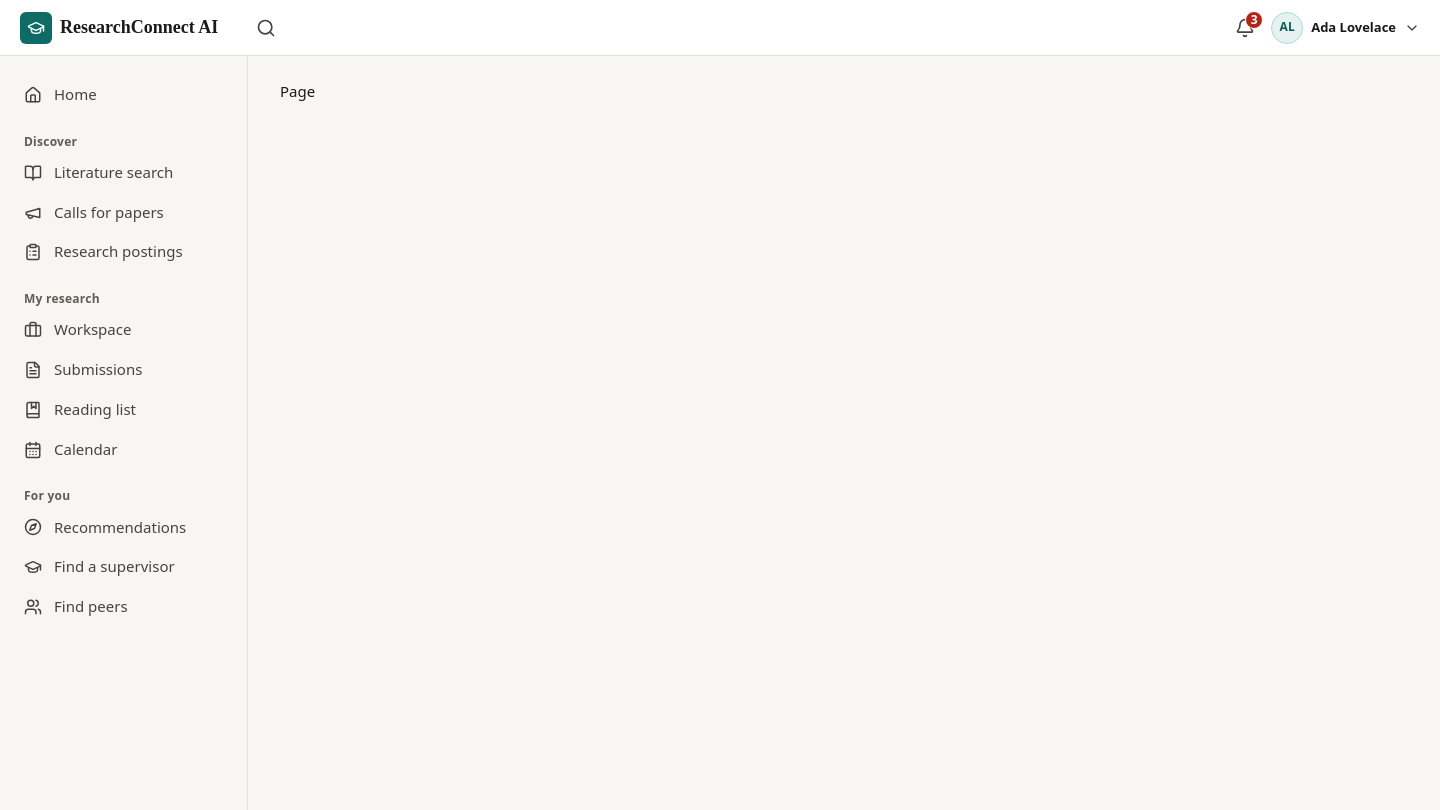
notification bell › names the unread count and opens the latest notifications, closing back to the bell
The width and height of the screenshot is (1440, 810).
Click the button named "Notifications, 3 unread" at (1245, 28), box x1=1227 y1=10 x2=1263 y2=46
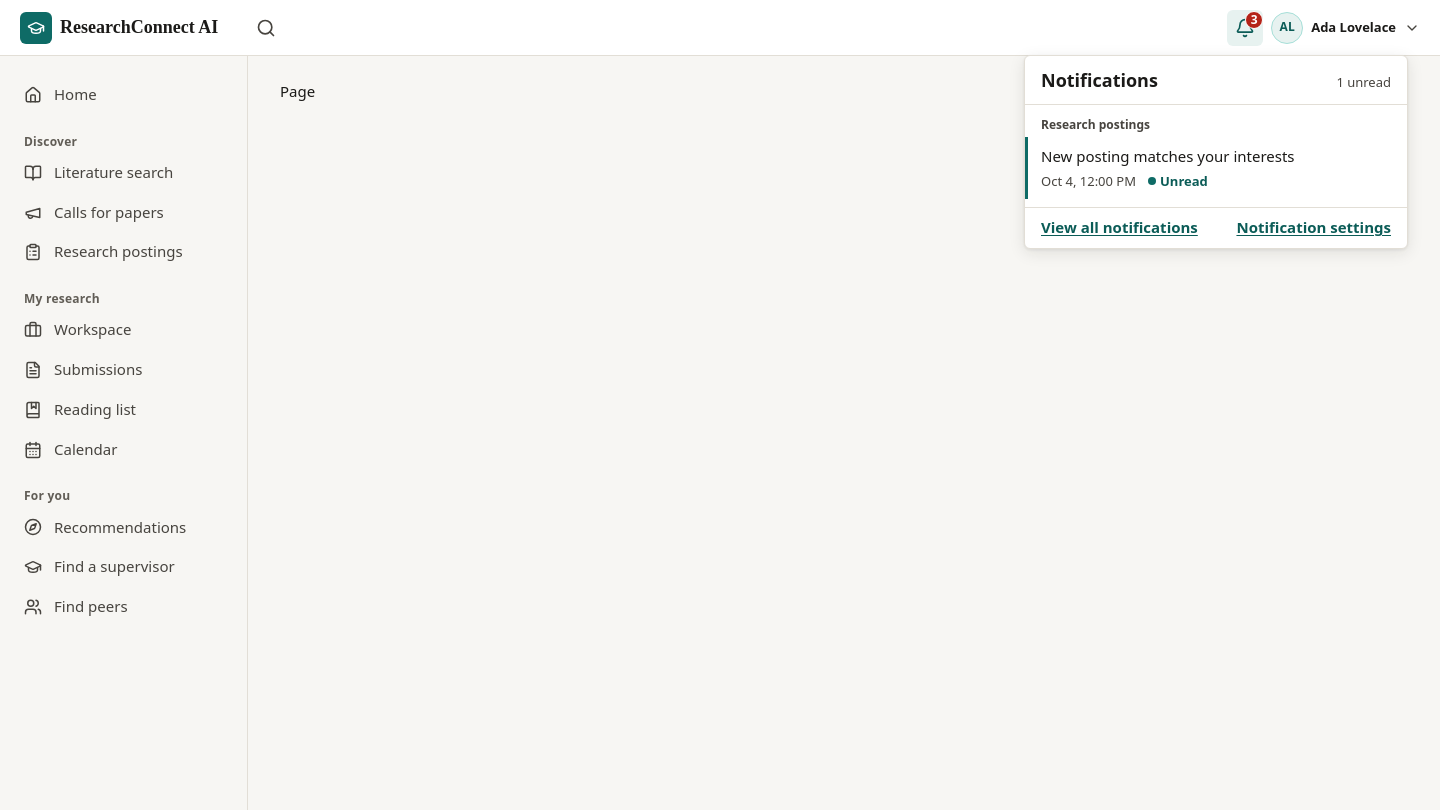
Now the button named "Notifications, 3 unread" is expanded, box x1=1227 y1=10 x2=1263 y2=46
Now the text "New posting matches your interests" is shown, box x1=1041 y1=146 x2=1294 y2=166
Now the heading "Research postings" is shown, box x1=1041 y1=116 x2=1150 y2=133
Press Escape
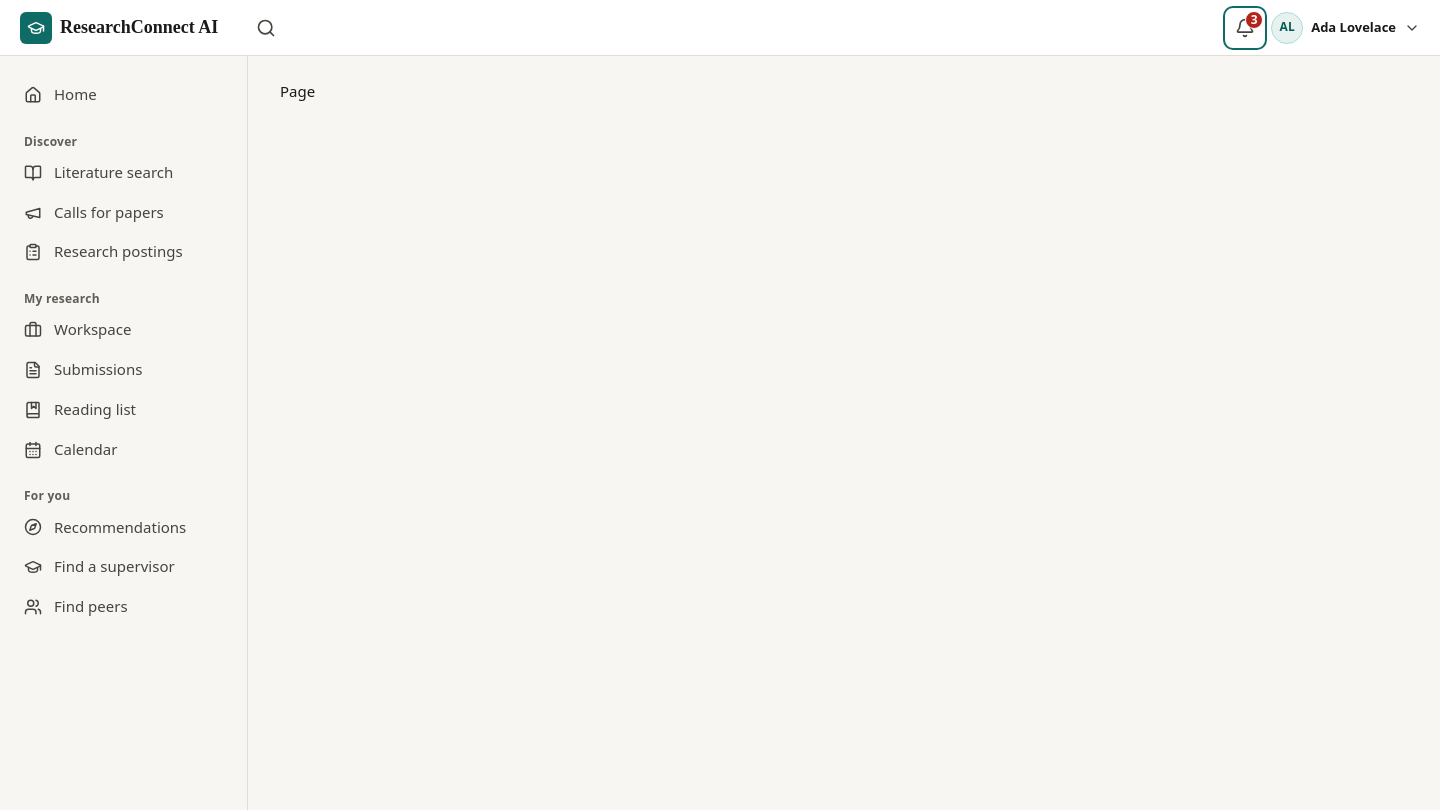
Now the button named "Notifications, 3 unread" is collapsed, box x1=1227 y1=10 x2=1263 y2=46
